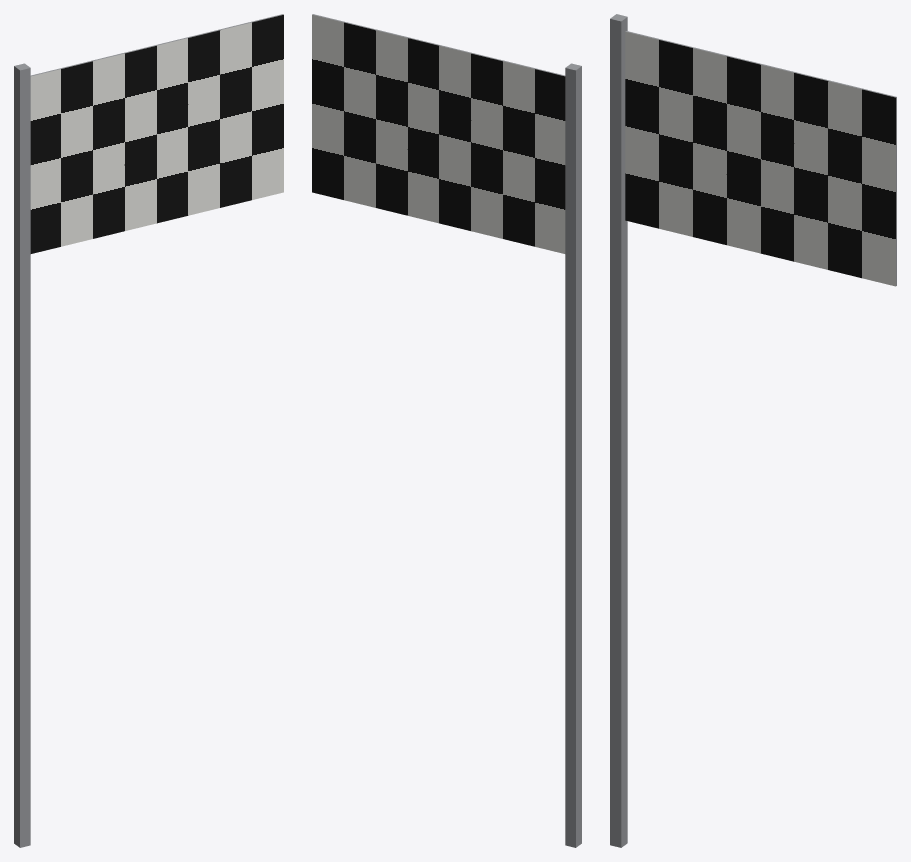
Rendered from flag_checker.dae.
The picture shows the model from 3 angles, left to right: view 1: azimuth 30°, elevation 25°; view 2: azimuth 150°, elevation 25°; view 3: azimuth 330°, elevation 25°; orthographic projection. The views are drawn at different scales.
Visible parts, largest first — view 1: marker; view 2: marker; view 3: marker.
Part boxes in pixels (bbox=[...]): marker: bbox=[14, 14, 283, 847]; marker: bbox=[312, 14, 581, 847]; marker: bbox=[610, 14, 896, 847].
Bounding box in the file's own units: 1.26 × 0.05 × 3.5.
Materials: 1 (1 with a texture image).
